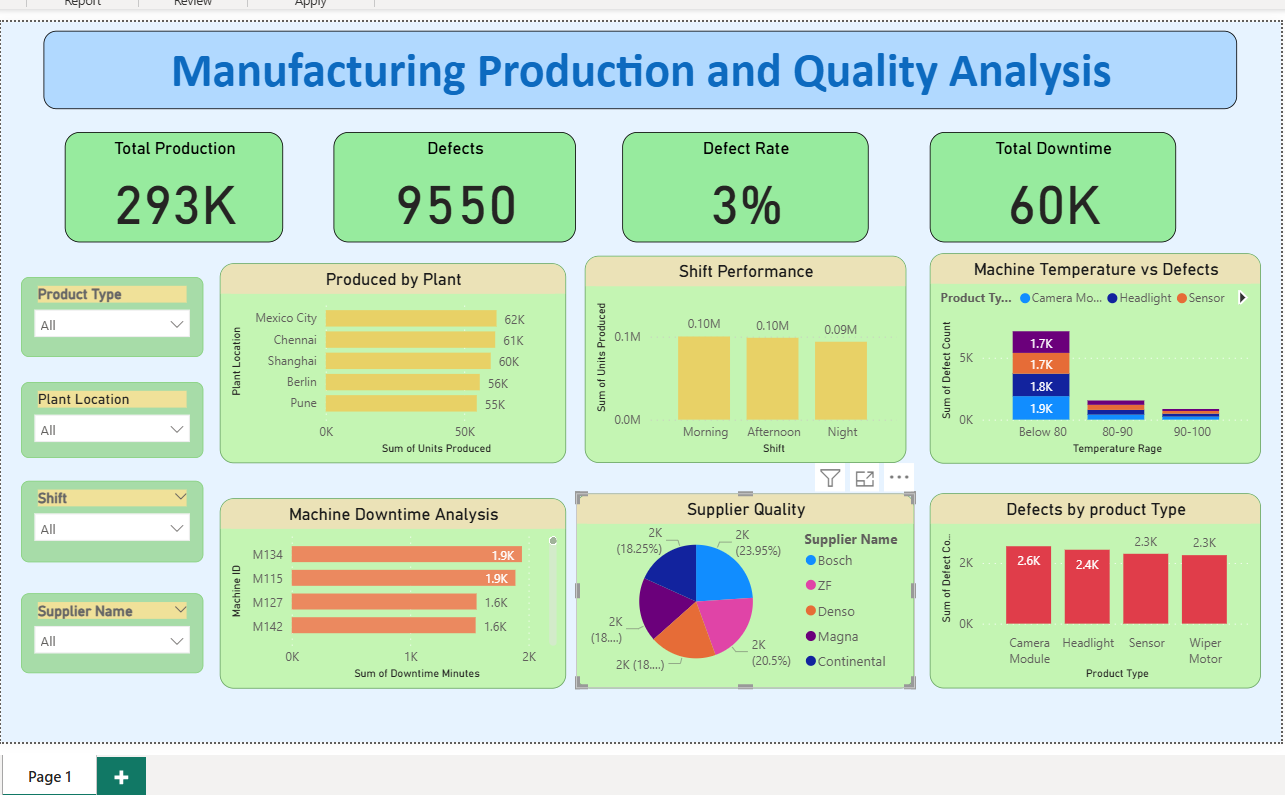

Layout of this report page (visuals, bound fields, positions):
{"tool":"powerbi","page":{"name":"Manufacturing Production and Quality Analysis","canvas":[1280,720],"ordinal":0},"visuals":[{"type":"card","title":"Total Production","fields":{"Values":["Manufacturing production Data.Total Production"]},"box":[63.8,110,218.8,110],"z":1000},{"type":"card","title":"Defects","fields":{"Values":["Manufacturing production Data.Total Defect"]},"box":[332.5,110,242.5,110],"z":2000},{"type":"card","title":"Defect Rate","fields":{"Values":["Manufacturing production Data.Defect Rates"]},"box":[621.2,110,246.2,110],"z":3000},{"type":"card","title":"Total Downtime (Minutes)","fields":{"Values":["Manufacturing production Data.Total Downtime"]},"box":[928.8,110,246.2,110],"z":4000},{"type":"barChart","title":"Produced by Plant","fields":{"Category":["Manufacturing production Data.Plant Location"],"Y":["Sum(Manufacturing production Data.Units Produced)"]},"box":[218.8,241.2,346.2,200],"z":5000},{"type":"columnChart","title":"Defects by product Type","fields":{"Category":["Manufacturing production Data.Product Type"],"Y":["Sum(Manufacturing production Data.Defect Count)"]},"box":[928.8,471.2,331.2,195],"z":6000},{"type":"clusteredBarChart","title":"Machine Downtime Analysis","fields":{"Category":["Manufacturing production Data.Machine ID"],"Y":["Sum(Manufacturing production Data.Downtime Minutes)"]},"box":[218.8,476.2,346.2,190],"z":7000},{"type":"pieChart","title":"Supplier Quality","fields":{"Category":["Manufacturing production Data.Supplier Name"],"Y":["Sum(Manufacturing production Data.Defect Count)"]},"box":[575,471.2,338.8,195],"z":8000},{"type":"columnChart","title":"Shift Performance","fields":{"Category":["Manufacturing production Data.Shift"],"Y":["Sum(Manufacturing production Data.Units Produced)"]},"box":[583.8,233.8,321.2,207.5],"z":9000},{"type":"columnChart","title":"Machine Temperature vs Defects","fields":{"Y":["Sum(Manufacturing production Data.Defect Count)"],"Category":["Manufacturing production Data.Temperature Rage"],"Series":["Manufacturing production Data.Product Type"]},"box":[928.8,231.2,331.2,210],"z":10000},{"type":"slicer","title":"plant location","fields":{"Values":["Manufacturing production Data.Plant Location"]},"box":[20,350,182.5,76.2],"z":11000},{"type":"slicer","title":"Product Type","fields":{"Values":["Manufacturing production Data.Product Type"]},"box":[20,255,182.5,80],"z":12000},{"type":"slicer","title":"shift","fields":{"Values":["Manufacturing production Data.Shift"]},"box":[20,441.2,182.5,81.2],"z":13000},{"type":"slicer","title":"Supplier Name","fields":{"Values":["Manufacturing production Data.Supplier Name"]},"box":[20,548.8,182.5,80],"z":14000},{"type":"textbox","box":[42.5,8.8,1193.8,78.8],"z":14001}]}

Visuals, with their boxes on the page's 1280x720 design canvas (x1, y1, x2, y2). These are canvas units, not pixel positions in the 1285x795 screenshot, which may show the page scaled, cropped or inside an application window:
"Total Production" card: bbox(64, 110, 283, 220)
"Defects" card: bbox(332, 110, 575, 220)
"Defect Rate" card: bbox(621, 110, 867, 220)
"Total Downtime (Minutes)" card: bbox(929, 110, 1175, 220)
"Produced by Plant" barChart: bbox(219, 241, 565, 441)
"Defects by product Type" columnChart: bbox(929, 471, 1260, 666)
"Machine Downtime Analysis" clusteredBarChart: bbox(219, 476, 565, 666)
"Supplier Quality" pieChart: bbox(575, 471, 914, 666)
"Shift Performance" columnChart: bbox(584, 234, 905, 441)
"Machine Temperature vs Defects" columnChart: bbox(929, 231, 1260, 441)
"plant location" slicer: bbox(20, 350, 202, 426)
"Product Type" slicer: bbox(20, 255, 202, 335)
"shift" slicer: bbox(20, 441, 202, 522)
"Supplier Name" slicer: bbox(20, 549, 202, 629)
textbox: bbox(42, 9, 1236, 88)
